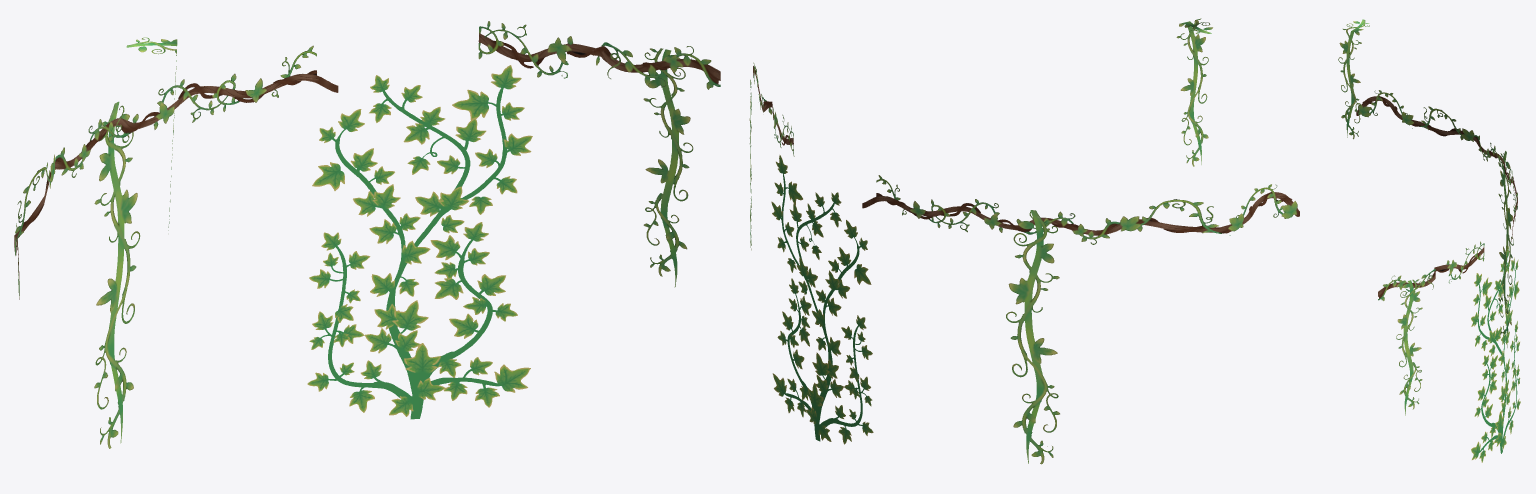
The model's file is PVB export winkel vines.fbx.
The picture shows the model from 3 angles, left to right: view 1: azimuth 30°, elevation 25°; view 2: azimuth 150°, elevation 25°; view 3: azimuth 270°, elevation 25°; orthographic projection. The views are drawn at different scales.
Parts seen in each view (by area): view 1: vine; view 2: vine; view 3: vine.
Part boxes in pixels (box(x1,y1,x2,y2)): vine: box(14, 21, 720, 448); vine: box(749, 18, 1299, 464); vine: box(1338, 19, 1520, 462).
Size of the model in its own units: 11.1 by 8.26 by 4.53.
Materials: 1 (1 with a texture image).
